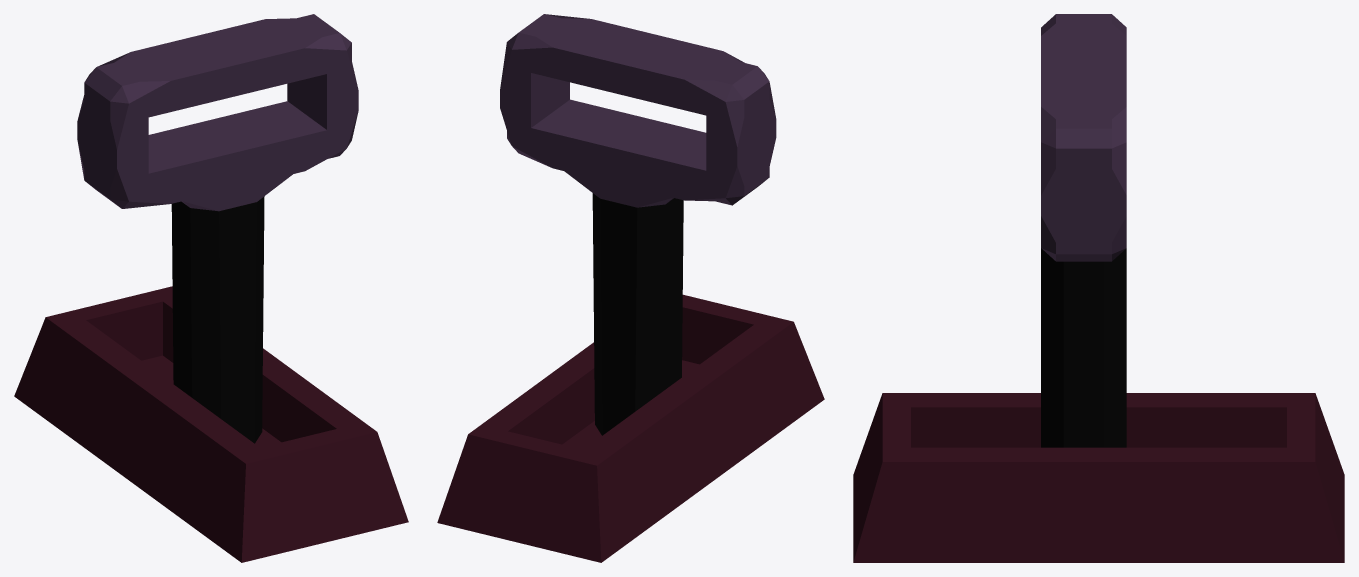
The model's file is Lever.fbx.
3 views of the same model, side by side, from view 1: azimuth 30°, elevation 25°; view 2: azimuth 150°, elevation 25°; view 3: azimuth 270°, elevation 25° (orthographic). The views are drawn at different scales.
Visible parts, largest first — view 1: Cube.001, Cube; view 2: Cube.001, Cube; view 3: Cube, Cube.001.
Part boxes in pixels (bbox=[...]): Cube.001: bbox=[77, 14, 358, 443]; Cube: bbox=[14, 286, 408, 562]; Cube.001: bbox=[500, 14, 776, 435]; Cube: bbox=[437, 294, 824, 562]; Cube: bbox=[853, 393, 1344, 562]; Cube.001: bbox=[1041, 14, 1126, 447].
Bounding box in the file's own units: 18.37 × 30.1 × 29.96.
